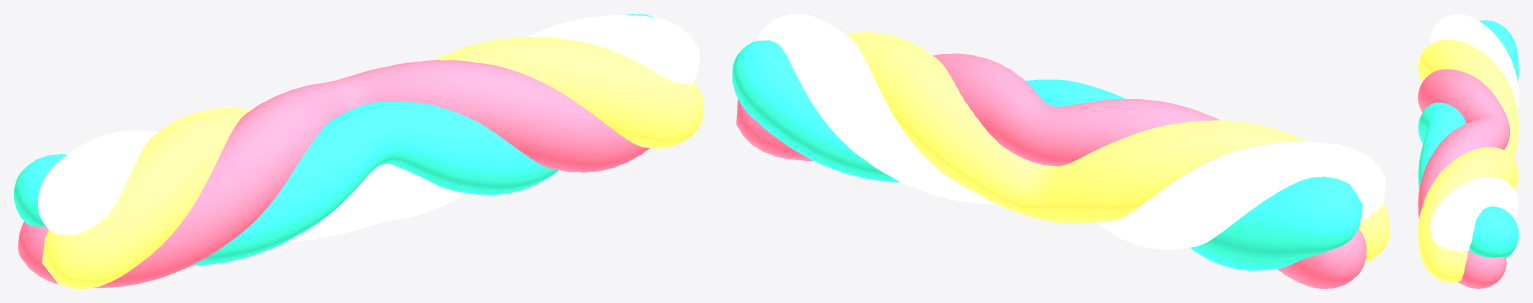
The picture shows the model from 3 angles, left to right: view 1: azimuth 30°, elevation 25°; view 2: azimuth 150°, elevation 25°; view 3: azimuth 270°, elevation 25°; orthographic projection. The views are drawn at different scales.
Parts seen in each view (by area): view 1: Marshmellow-whole; view 2: Marshmellow-whole; view 3: Marshmellow-whole.
Part boxes in pixels (x1,y1,x2,y2): Marshmellow-whole: [14, 14, 703, 288]; Marshmellow-whole: [732, 14, 1389, 288]; Marshmellow-whole: [1418, 14, 1518, 288].
Bounding box in the file's own units: 1.72 × 0.35 × 0.35.
